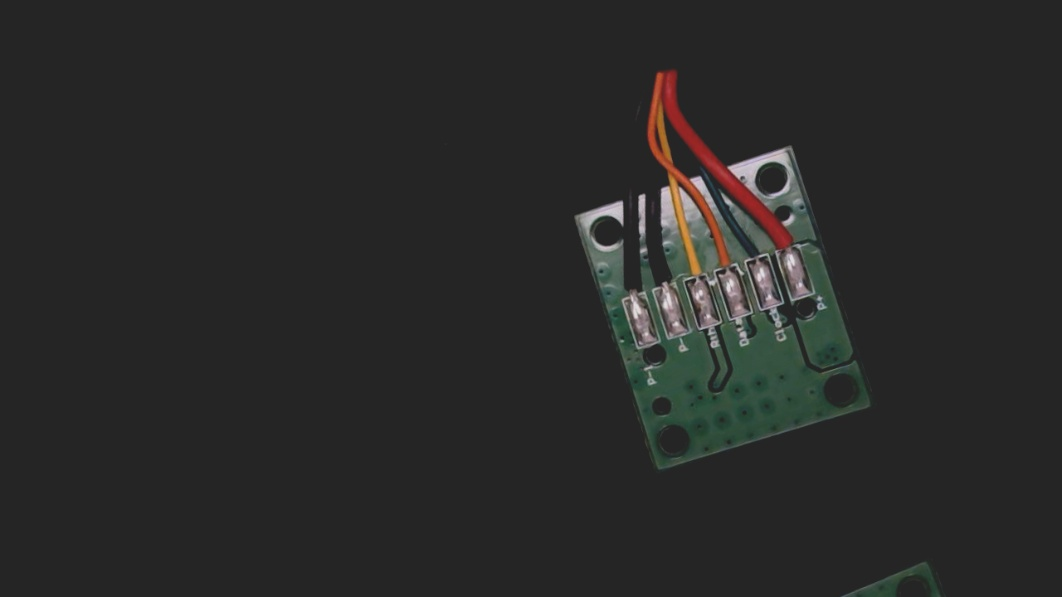Black: (639, 247, 682, 302)
Black1: (611, 266, 650, 314)
Green: (733, 224, 772, 272)
Orange: (700, 224, 740, 283)
Red: (761, 208, 801, 262)
Yellow: (672, 230, 715, 294)
